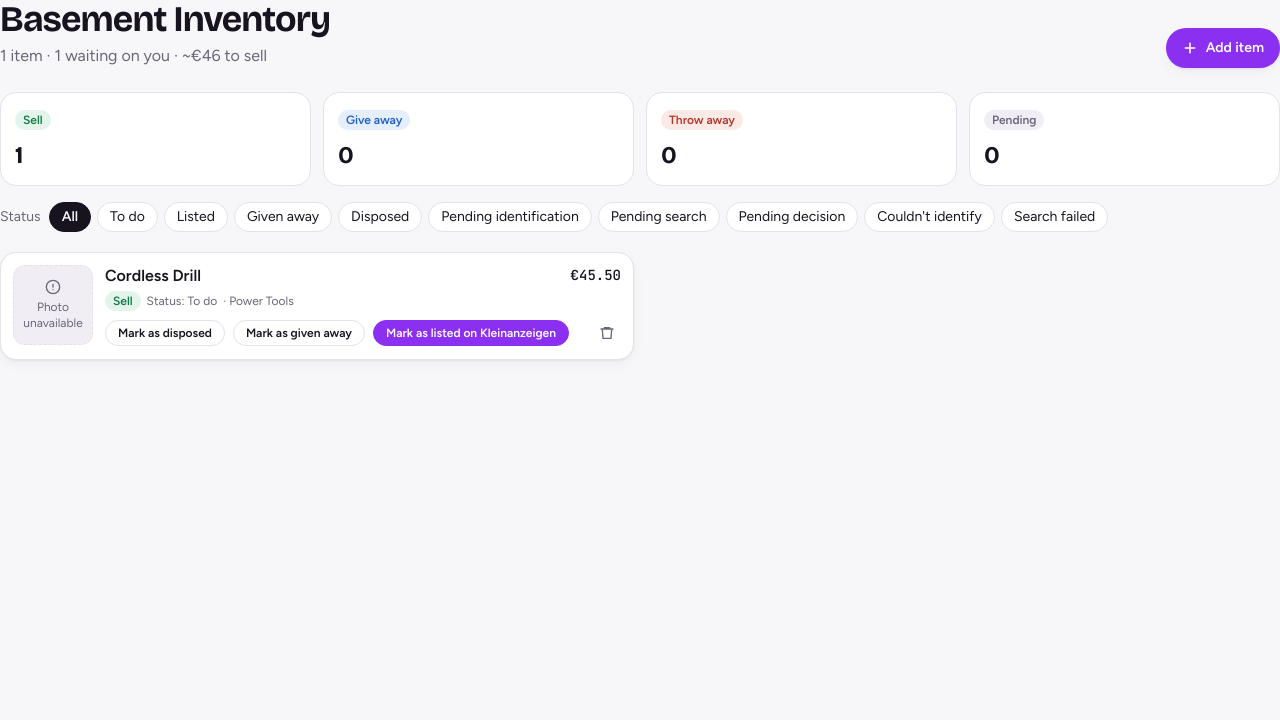
Test: InventoryPage › shows an error and leaves the item in place when the delete request fails
expect the link "Cordless Drill" is shown: met, box [105,266,201,285]
Click the button named "delete". click: (607, 333)
box: [593,319,621,347]
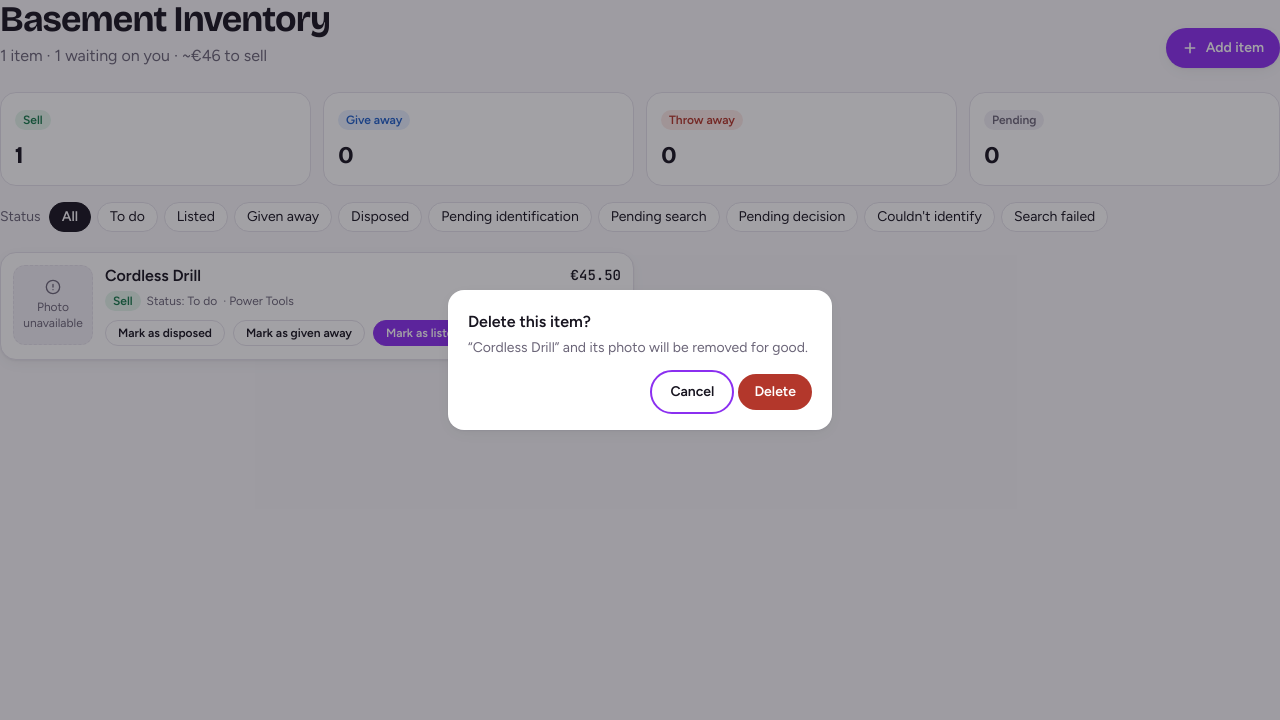
Click the button "Delete". click: (775, 392)
box: [738,374,812,410]
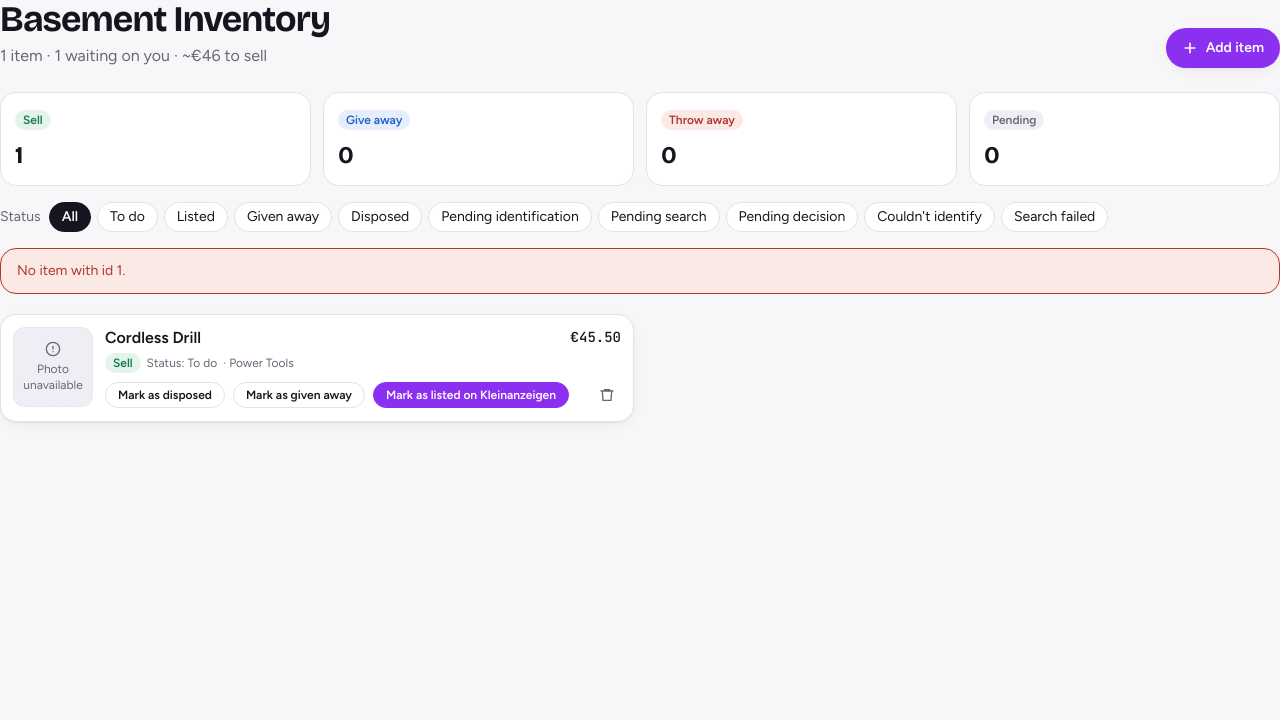
expect the link "Cordless Drill" is shown: met, box [105,328,201,347]
expect the message shows "No item with id 1": met, box [17,262,125,279]
